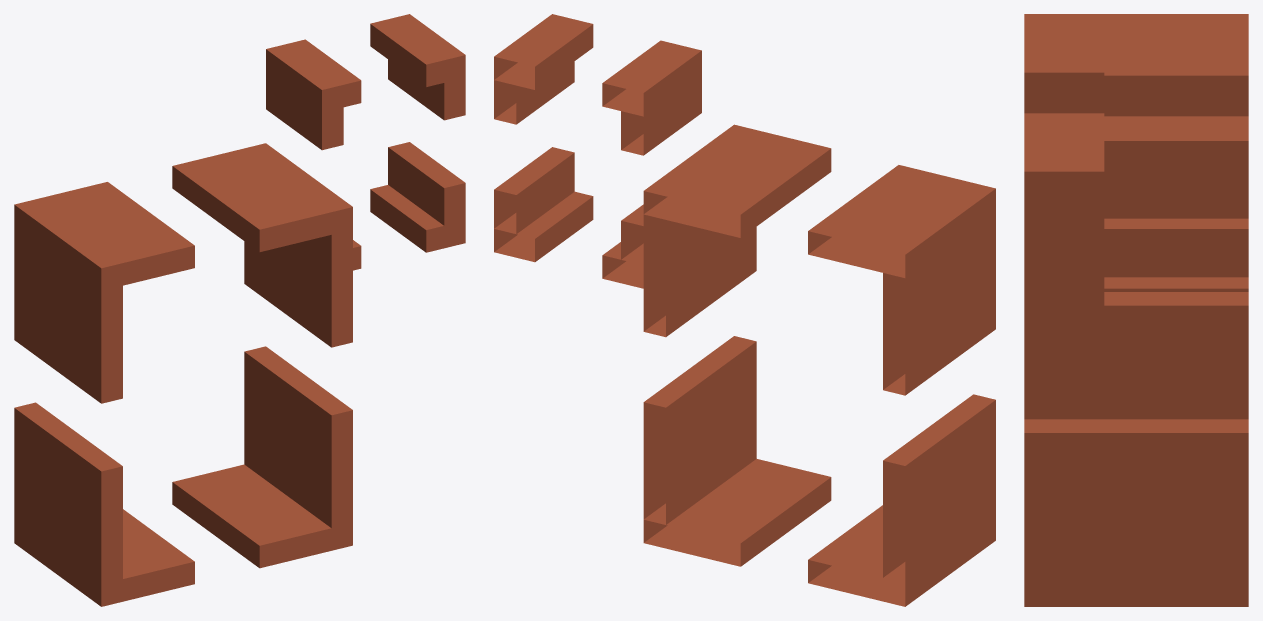
The model's file is construction_1.glb.
3 renders of one model, left to right at view 1: azimuth 30°, elevation 25°; view 2: azimuth 150°, elevation 25°; view 3: azimuth 270°, elevation 25°, orthographic. The views are drawn at different scales.
Parts seen in each view (by area): view 1: c1; view 2: c1; view 3: c1.
Part boxes in pixels (x1,y1,x2,y2): c1: [14, 14, 465, 606]; c1: [494, 14, 995, 606]; c1: [1024, 14, 1248, 606].
Bounding box in the file's own units: 11 × 11.5 × 4.2.
